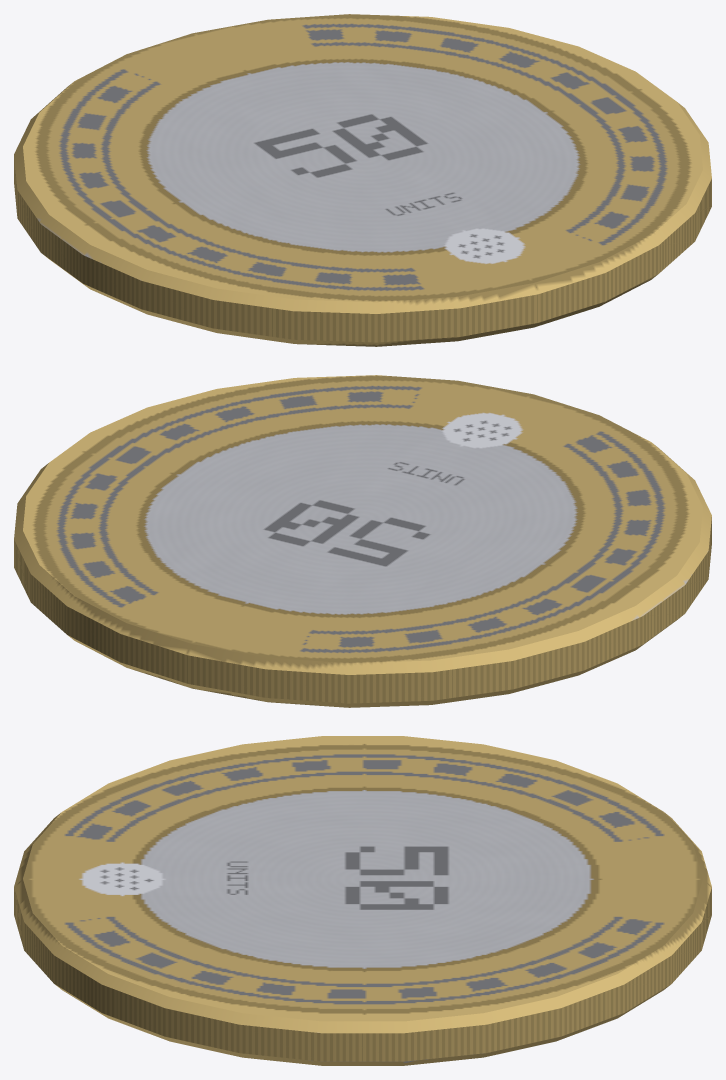
The model's file is cash_coin_50.glb.
3 renders of one model, top to bottom at view 1: azimuth 30°, elevation 25°; view 2: azimuth 150°, elevation 25°; view 3: azimuth 270°, elevation 25°, orthographic.
Visible parts, largest first — view 1: Coin_Body; view 2: Coin_Body; view 3: Coin_Body.
Part boxes in pixels (bbox=[...]): Coin_Body: bbox=[14, 14, 711, 346]; Coin_Body: bbox=[14, 375, 711, 707]; Coin_Body: bbox=[14, 736, 711, 1065].
Bounding box in the file's own units: 0.0304 × 0.00215 × 0.0306.
1 material, 1 textured.
